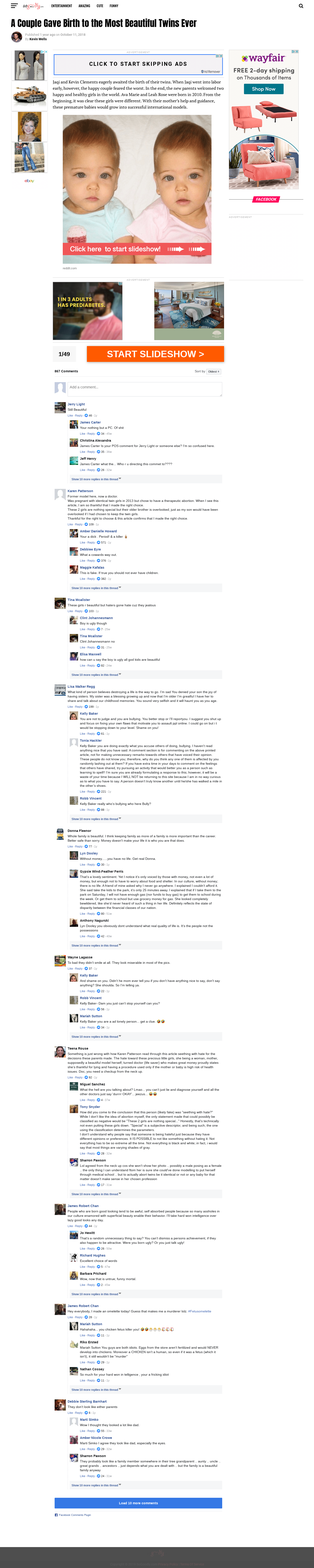fake_button: (51, 51, 225, 77), (83, 342, 230, 368), (53, 1494, 230, 1512)
